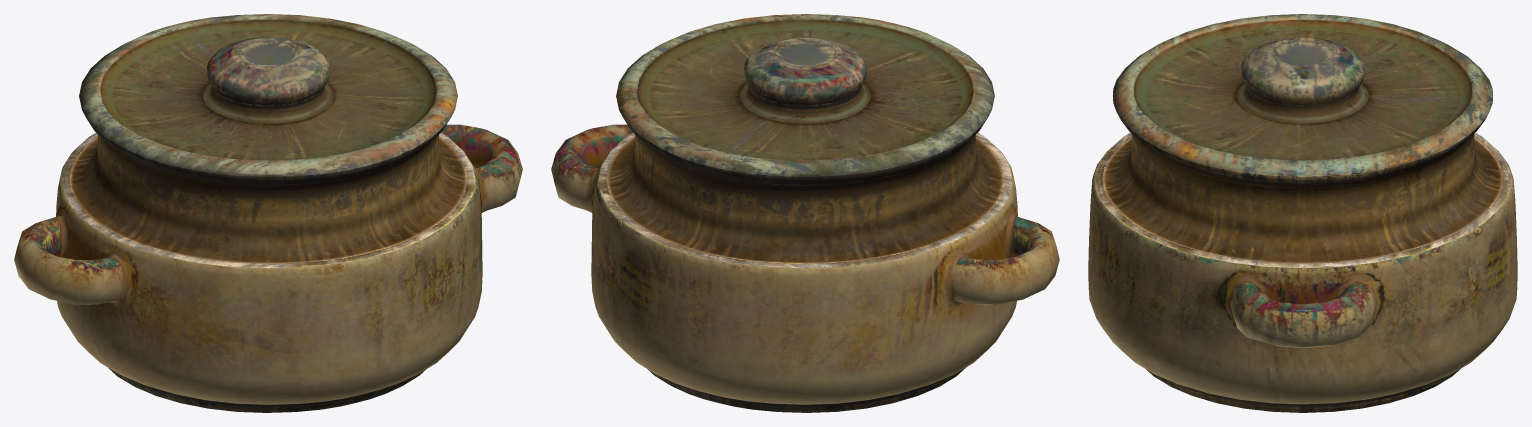
Rendered from Ceramic_Pot.glb.
3 views of the same model, side by side, from view 1: azimuth 30°, elevation 25°; view 2: azimuth 150°, elevation 25°; view 3: azimuth 270°, elevation 25° (orthographic).
Visible parts, largest first — view 1: ceramic_pot; view 2: ceramic_pot; view 3: ceramic_pot.
Part boxes in pixels (bbox=[...]): ceramic_pot: bbox=[14, 14, 522, 412]; ceramic_pot: bbox=[551, 14, 1059, 412]; ceramic_pot: bbox=[1088, 14, 1517, 412].
Size of the model in its own units: 0.6563 by 0.3716 by 0.5018.
Materials: 1 (1 with a texture image).
